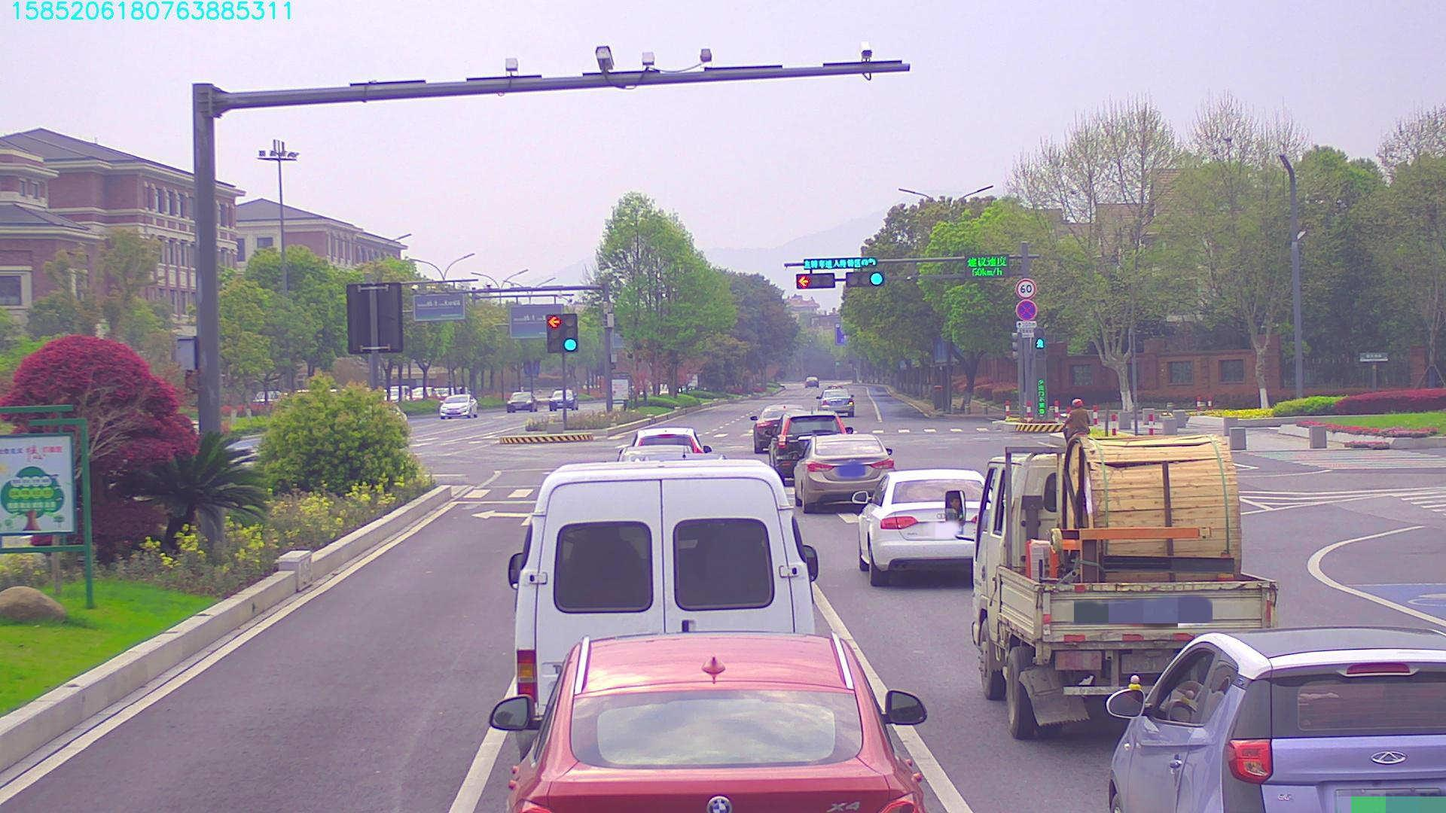green: (844, 269, 889, 291)
red: (792, 271, 834, 292)
wait_on: (800, 257, 877, 266)
